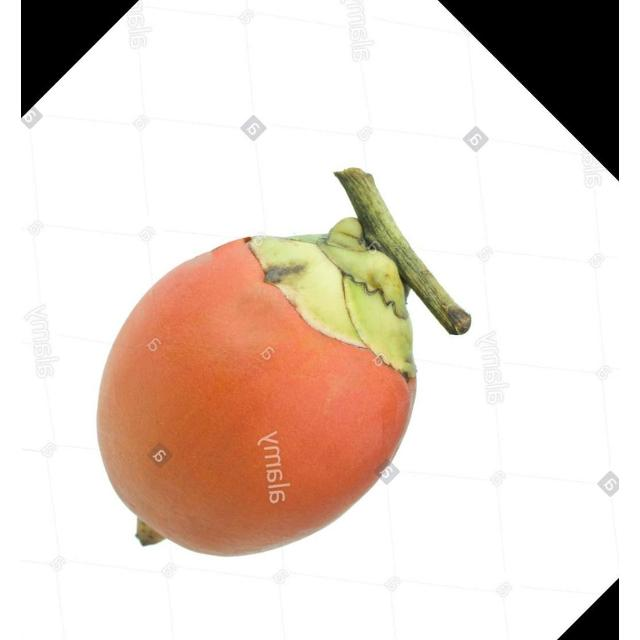good: (96, 169, 472, 558)
